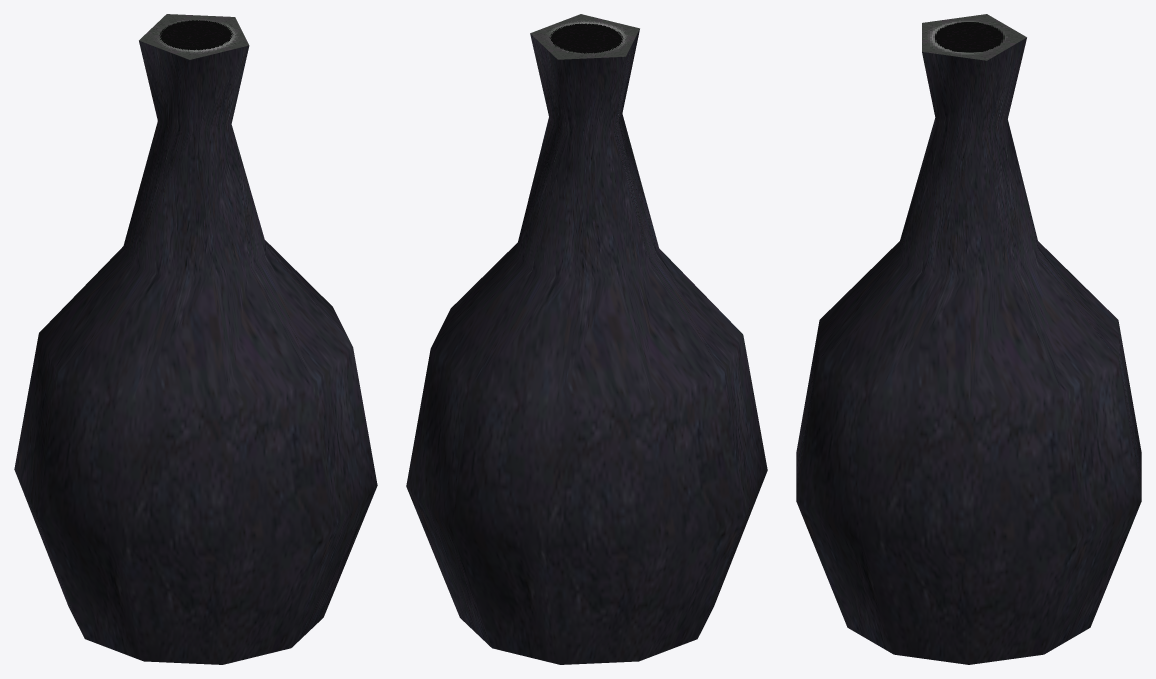
File: edb_con_tato_bottle_empty_s03_l1.fbx
The picture shows the model from 3 angles, left to right: view 1: azimuth 30°, elevation 25°; view 2: azimuth 150°, elevation 25°; view 3: azimuth 270°, elevation 25°; orthographic projection.
Visible parts, largest first — view 1: mesh_node; view 2: mesh_node; view 3: mesh_node.
Part boxes in pixels (left/top/right/bottom): mesh_node: left=14, top=14, right=377, bottom=664; mesh_node: left=406, top=14, right=767, bottom=664; mesh_node: left=796, top=14, right=1141, bottom=664.
Bounding box in the file's own units: 0.2774 × 0.4831 × 0.2638.
